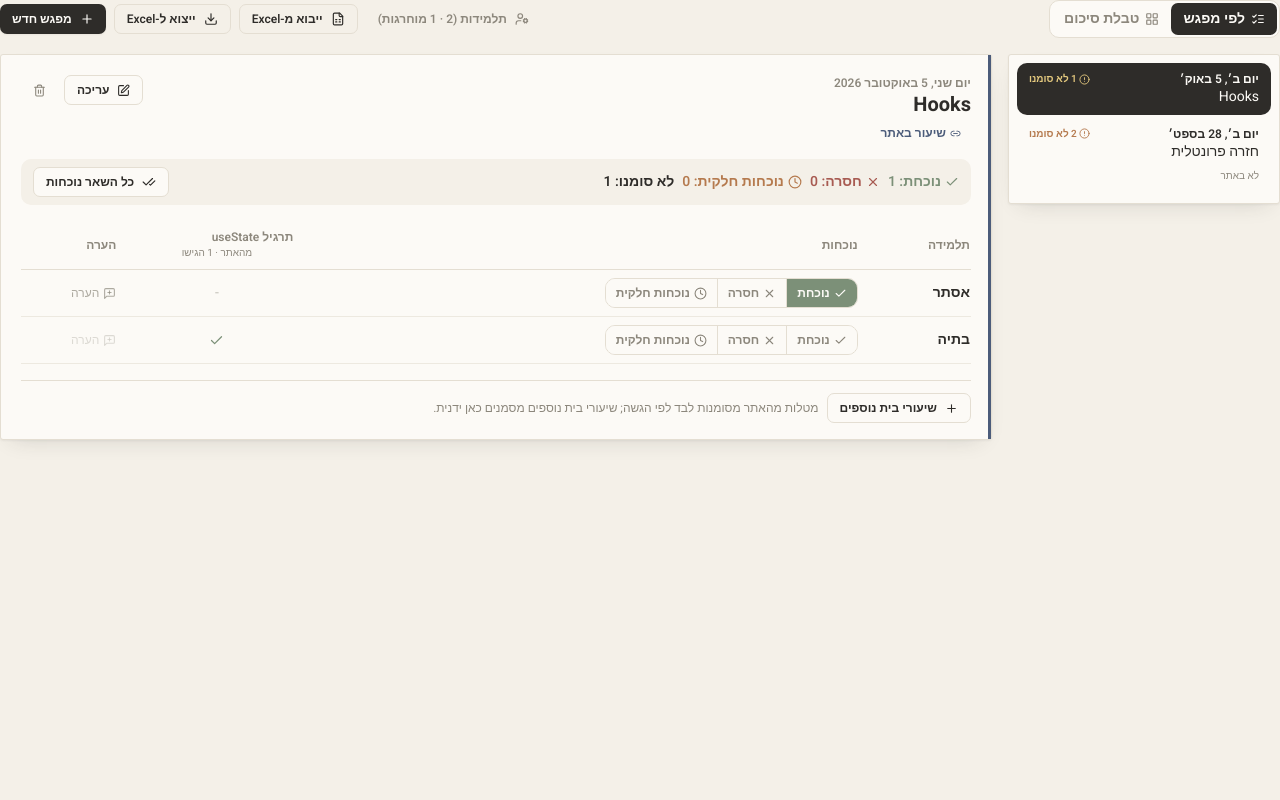
Test: AttendancePanel › explains required and optional columns before an excel import
This screenshot has width=1280, height=800.
Click the button "ייבוא מ-Excel".
click(298, 19)  # box [239,4,358,34]
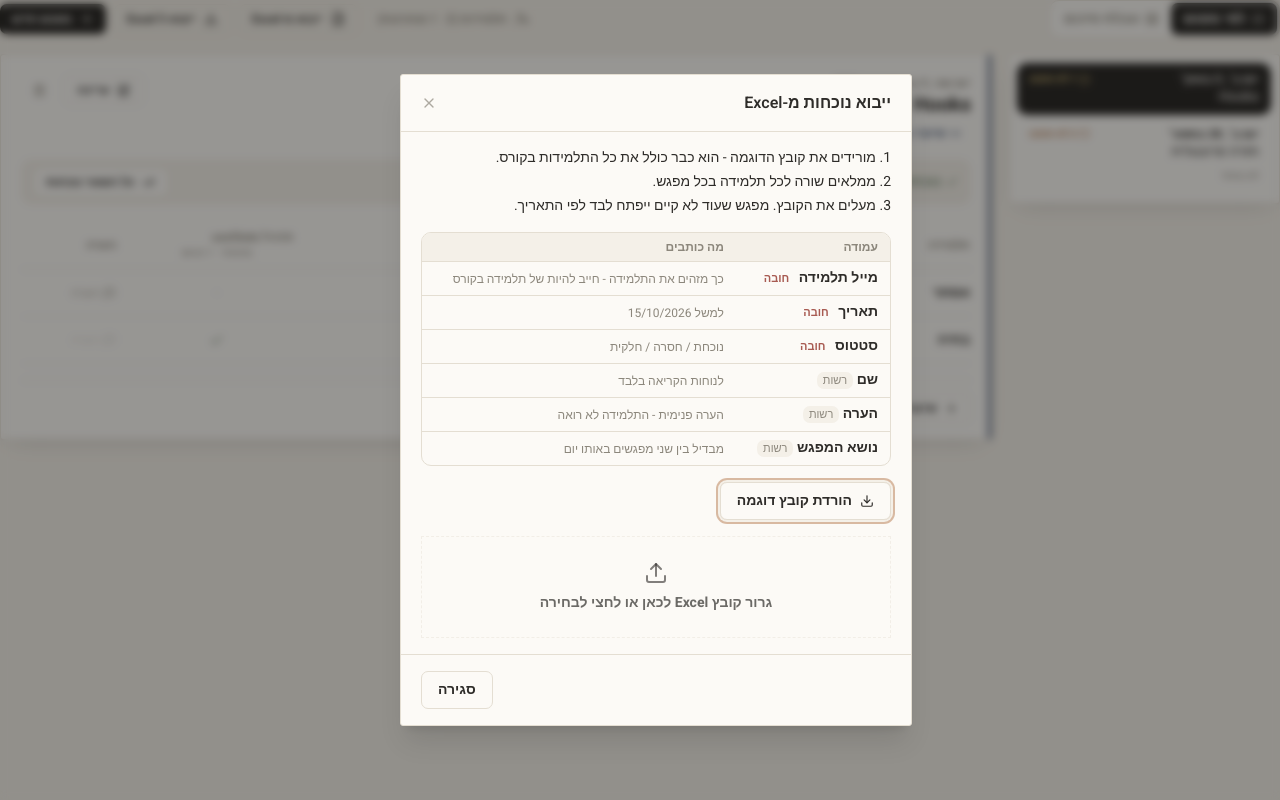
Expected: the text "חובה" is shown 3 times, [764,270,789,287]; [803,304,829,321]; [800,338,826,355]
Expected: the text "רשות" is shown 3 times, [817,372,853,389]; [803,406,839,423]; [757,440,794,457]
Expected: the button "הורדת קובץ דוגמה" is shown, [720,482,891,520]
